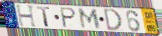6: (126, 9, 142, 33)
D: (103, 7, 123, 32)
H: (15, 4, 39, 28)
M: (78, 8, 101, 29)
P: (60, 7, 78, 29)
T: (36, 6, 52, 28)
